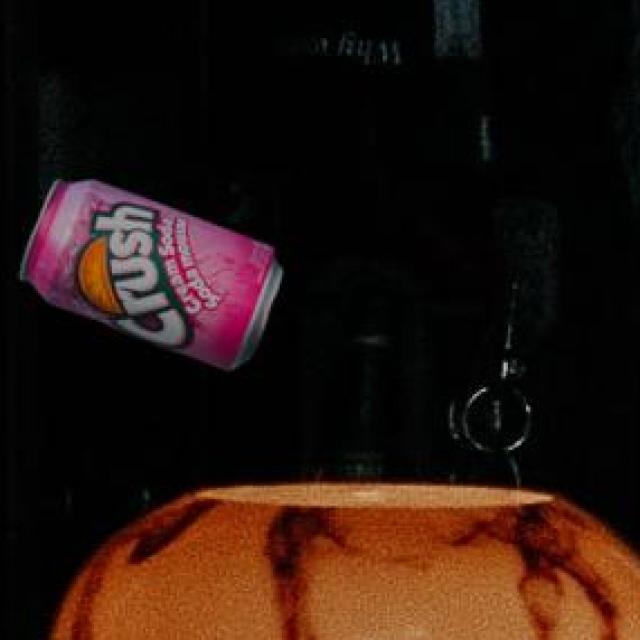logam: (23, 185, 285, 373)
